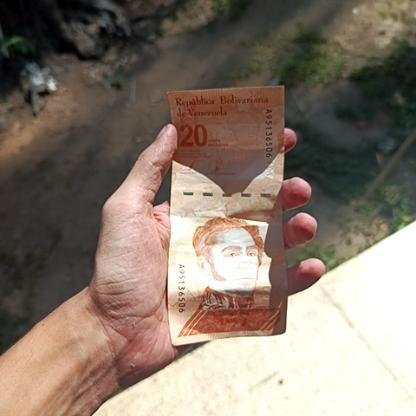twenty-front-vef: (165, 82, 288, 345)
